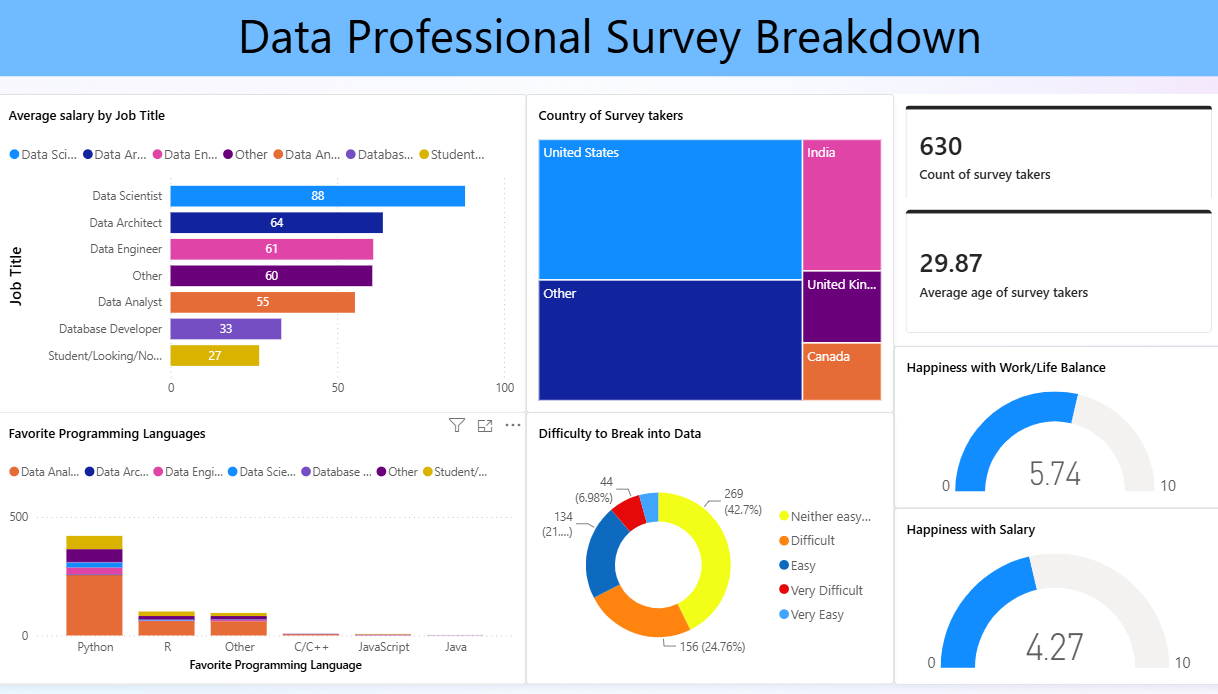

The dashboard page shown, as its layout file describes it:
{"tool":"powerbi","page":{"name":"Page 1","canvas":[1280,720],"ordinal":0},"visuals":[{"type":"textbox","box":[9.8,0,1270.6,81.3],"z":0},{"type":"cardVisual","fields":{"Data":["CountNonNull(Data Professional Survey.Unique ID)"]},"box":[938.5,98.9,341.8,124.4],"z":1000},{"type":"cardVisual","fields":{"Data":["Avg(Data Professional Survey.Q10 - Current Age)"]},"box":[938.5,206.9,341.8,152.9],"z":2000},{"type":"barChart","title":"Average salary by Job Title","fields":{"Category":["Data Professional Survey.Q1 - Which Title Best Fits your Current Role?.1"],"Y":["Avg(Data Professional Survey.Average Salary)"],"Series":["Data Professional Survey.Q1 - Which Title Best Fits your Current Role?.1"]},"box":[9,98.9,548.7,329.8],"z":3000},{"type":"columnChart","title":"Favorite Programming Languages ","fields":{"Category":["Data Professional Survey.Q5 - Favorite Programming Language.1"],"Y":["CountNonNull(Data Professional Survey.Unique ID)"],"Series":["Data Professional Survey.Q1 - Which Title Best Fits your Current Role?.1"]},"box":[9,428.8,548.7,281.8],"z":4000},{"type":"treemap","title":"Country of Survey takers ","fields":{"Group":["Data Professional Survey.Q11 - Which Country do you live in?.1"],"Values":["CountNonNull(Data Professional Survey.Q11 - Which Country do you live in?.1)"]},"box":[557.7,98.9,380.8,329.8],"z":5000},{"type":"gauge","title":"Happiness with Work/Life Balance ","fields":{"Y":["Avg(Data Professional Survey.Q6 - How Happy are you in your Current Position with the following? (Work/Life Balance))"],"MinValue":["Min(Data Professional Survey.Q6 - How Happy are you in your Current Position with the following? (Work/Life Balance))1"],"MaxValue":["Max(Data Professional Survey.Q6 - How Happy are you in your Current Position with the following? (Work/Life Balance))2"]},"box":[938.5,359.8,341.8,167.9],"z":6000},{"type":"gauge","title":"Happiness with Salary ","fields":{"Y":["Avg(Data Professional Survey.Q6 - How Happy are you in your Current Position with the following? (Salary))"],"MinValue":["Min(Data Professional Survey.Q6 - How Happy are you in your Current Position with the following? (Salary))"],"MaxValue":["Max(Data Professional Survey.Q6 - How Happy are you in your Current Position with the following? (Salary))"]},"box":[938.5,527.7,341.8,182.9],"z":7000},{"type":"donutChart","title":"Difficulty to Break into Data","fields":{"Y":["CountNonNull(Data Professional Survey.Q7 - How difficult was it for you to break into Data?)"],"Category":["Data Professional Survey.Q7 - How difficult was it for you to break into Data?"]},"box":[557.7,428.8,380.8,281.8],"z":8000}]}

Visuals, with their boxes in screenshot pixels (x1, y1, x2, y2), scaled from the page's 1280x720 canvas onto the 1218x694 screenshot:
textbox: [x1=9, y1=0, x2=1217, y2=78]
cardVisual - CountNonNull(Data Professional Survey.Unique ID): [x1=893, y1=95, x2=1217, y2=215]
cardVisual - Avg(Data Professional Survey.Q10 - Current Age): [x1=893, y1=199, x2=1217, y2=347]
"Average salary by Job Title" barChart: [x1=9, y1=95, x2=531, y2=413]
"Favorite Programming Languages " columnChart: [x1=9, y1=413, x2=531, y2=685]
"Country of Survey takers " treemap: [x1=531, y1=95, x2=893, y2=413]
"Happiness with Work/Life Balance " gauge: [x1=893, y1=347, x2=1217, y2=509]
"Happiness with Salary " gauge: [x1=893, y1=509, x2=1217, y2=685]
"Difficulty to Break into Data" donutChart: [x1=531, y1=413, x2=893, y2=685]
